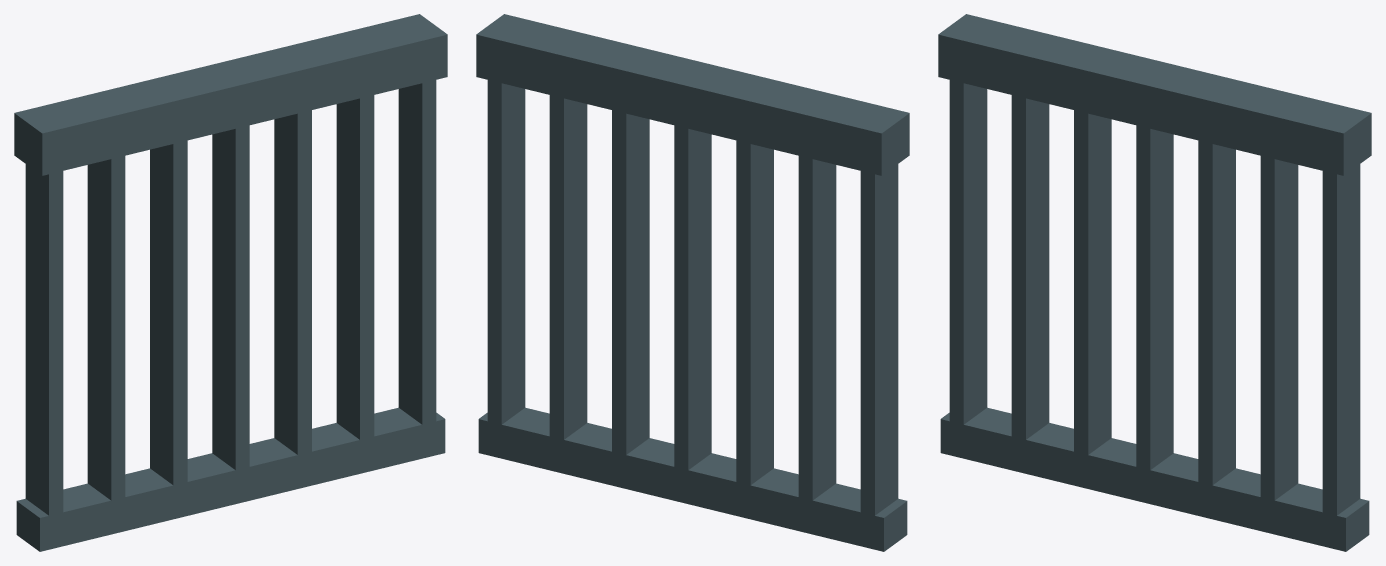
The model's file is FacadeKit_TowerCrownBand_LOD0.glb.
The picture shows the model from 3 angles, left to right: view 1: azimuth 30°, elevation 25°; view 2: azimuth 150°, elevation 25°; view 3: azimuth 330°, elevation 25°; orthographic projection.
Visible parts, largest first — view 1: FacadeKit_TowerCrownBand_LOD0; view 2: FacadeKit_TowerCrownBand_LOD0; view 3: FacadeKit_TowerCrownBand_LOD0.
Part boxes in pixels (bbox=[...]): FacadeKit_TowerCrownBand_LOD0: bbox=[14, 14, 447, 551]; FacadeKit_TowerCrownBand_LOD0: bbox=[476, 14, 909, 551]; FacadeKit_TowerCrownBand_LOD0: bbox=[938, 14, 1371, 551].
Size of the model in its own units: 1 by 0.99 by 0.12.
